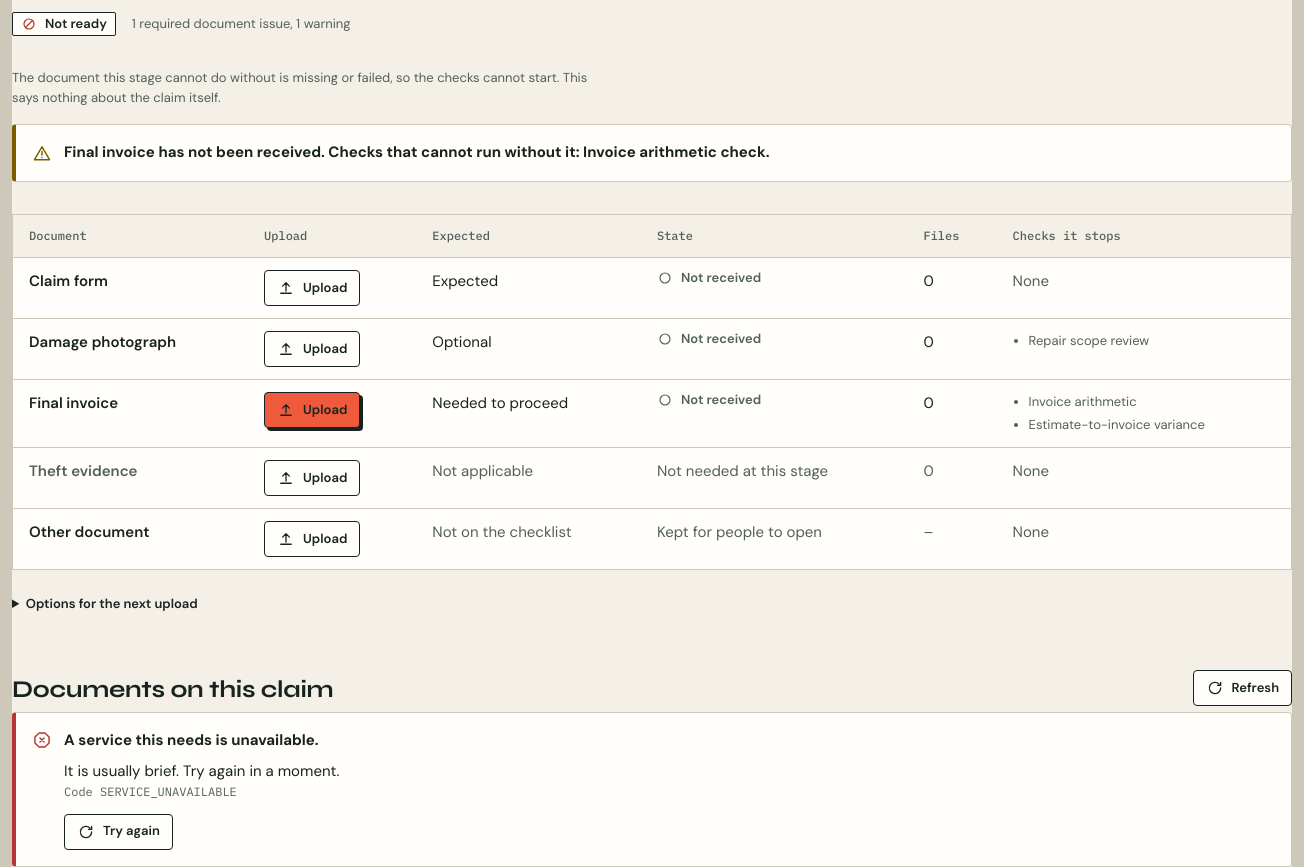
Test case: document list › shows a retryable error
(page scrolled)
Check: the text "A service this needs is unavailable." is shown, box x1=64 y1=730 x2=319 y2=750
Click the button "Try again". click: (118, 832)
box: x1=64 y1=814 x2=173 y2=850
(page scrolled)
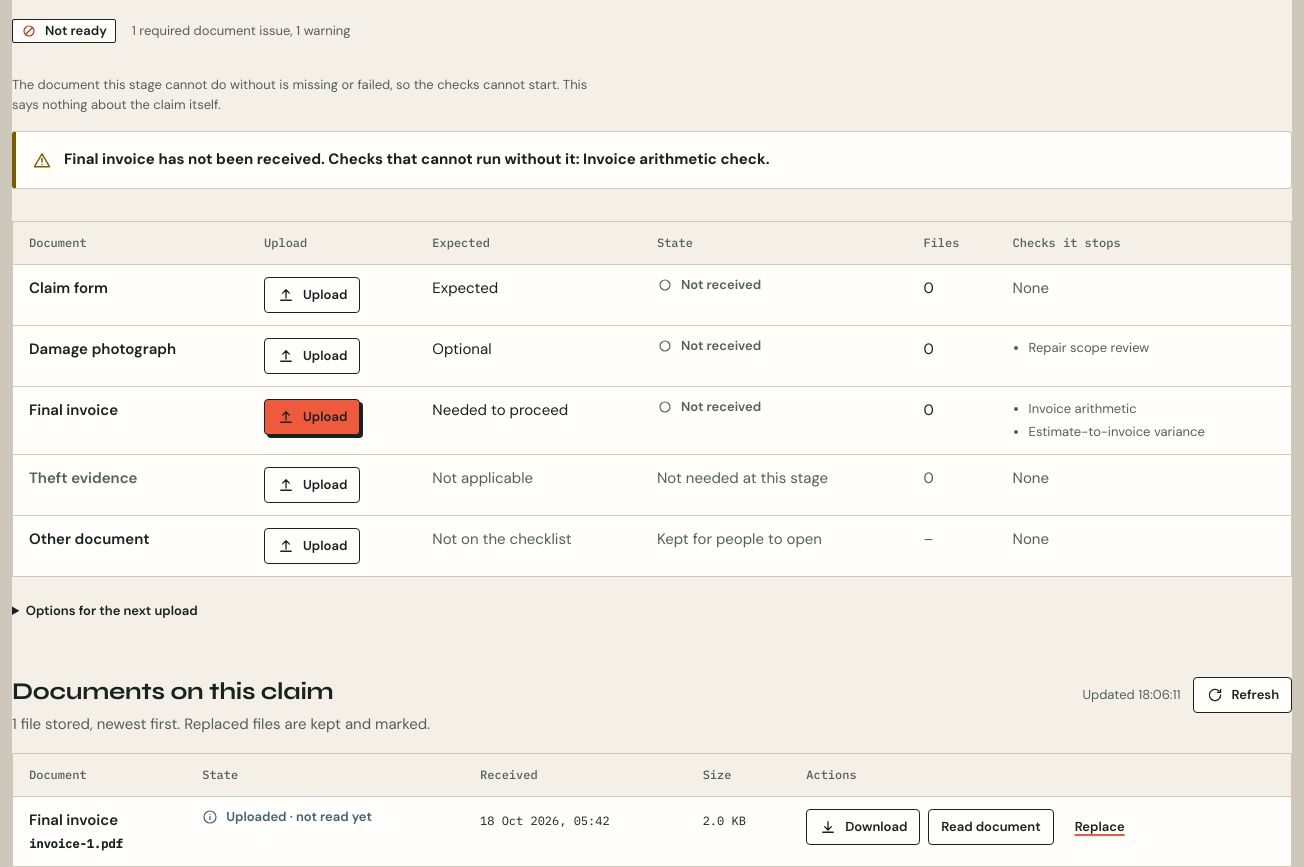
Check: the table named "Documents stored on this claim" is shown, box x1=12 y1=753 x2=1292 y2=866
